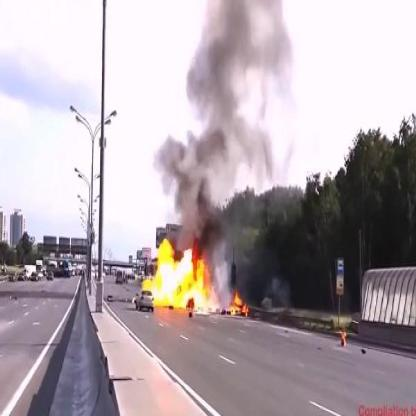fire: (140, 234, 250, 319), (340, 329, 348, 347)
